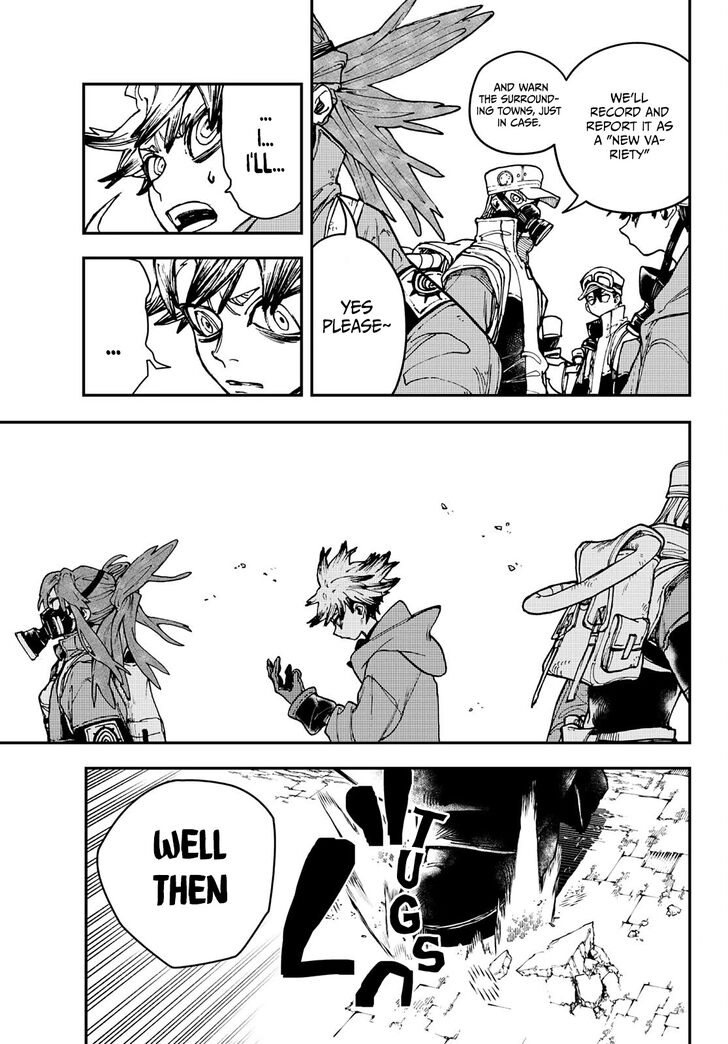bubble: (96, 780, 275, 968), (555, 42, 690, 213), (311, 197, 406, 396), (82, 258, 170, 396), (220, 84, 302, 219), (468, 51, 566, 155)
